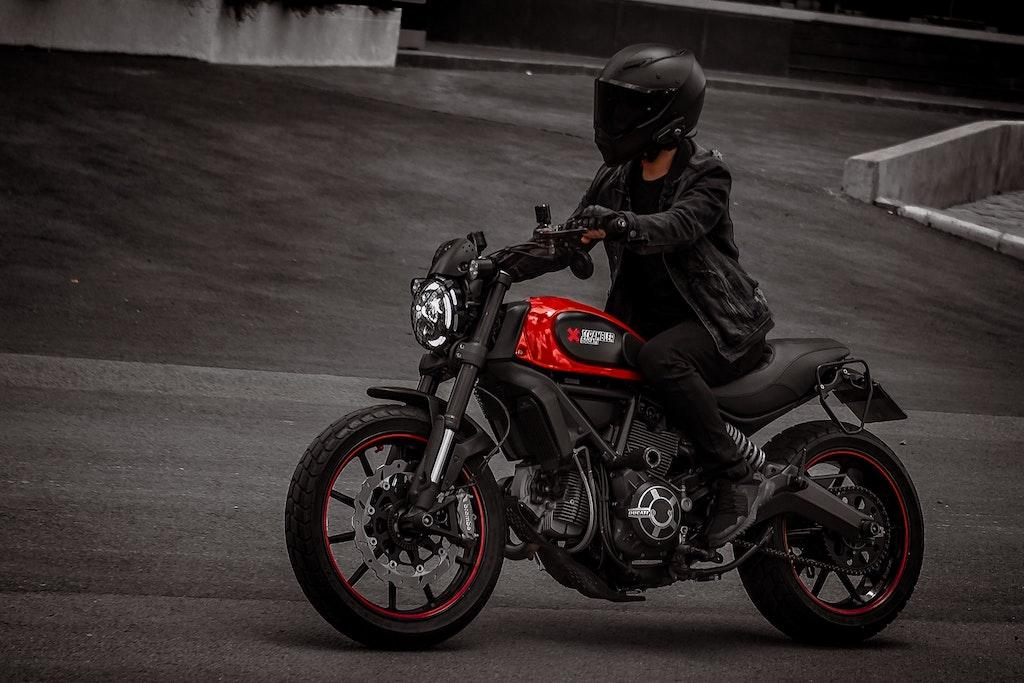helmet: (593, 40, 708, 169)
